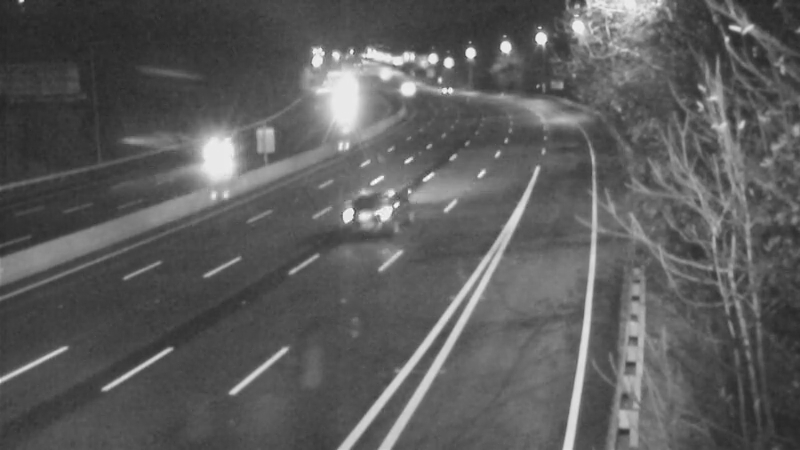vehicle: (335, 168, 415, 248), (178, 112, 258, 192), (420, 66, 470, 116), (375, 62, 425, 112), (318, 76, 368, 126)
